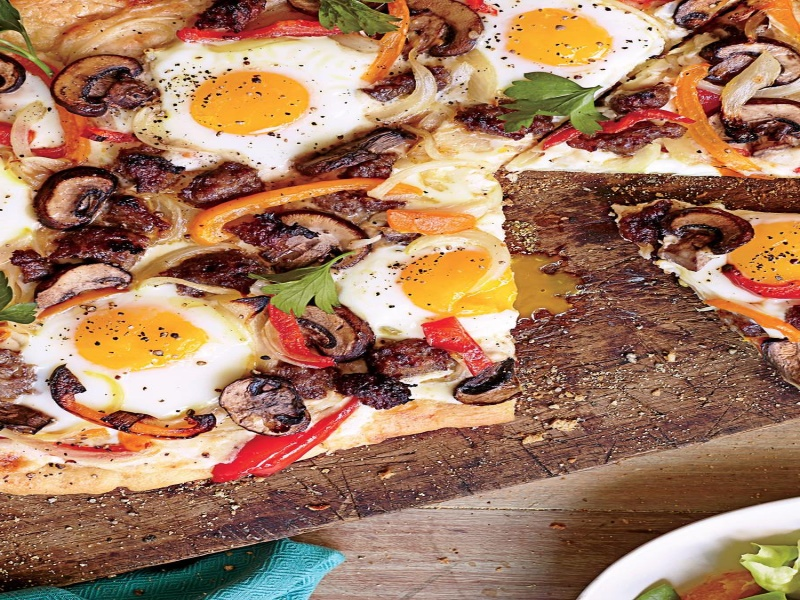champignon: (48, 47, 165, 133), (253, 211, 379, 279), (222, 373, 317, 447), (31, 162, 122, 234), (691, 32, 800, 92), (667, 201, 756, 272), (390, 1, 492, 62), (447, 351, 523, 412)
oeuf: (62, 296, 237, 388), (383, 234, 529, 330), (182, 63, 336, 150), (492, 1, 622, 78)
